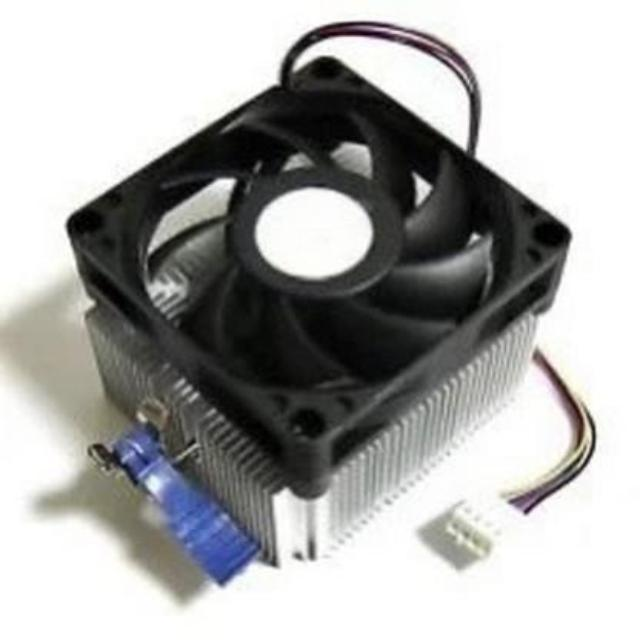CPU_Fan: (54, 48, 578, 574)
